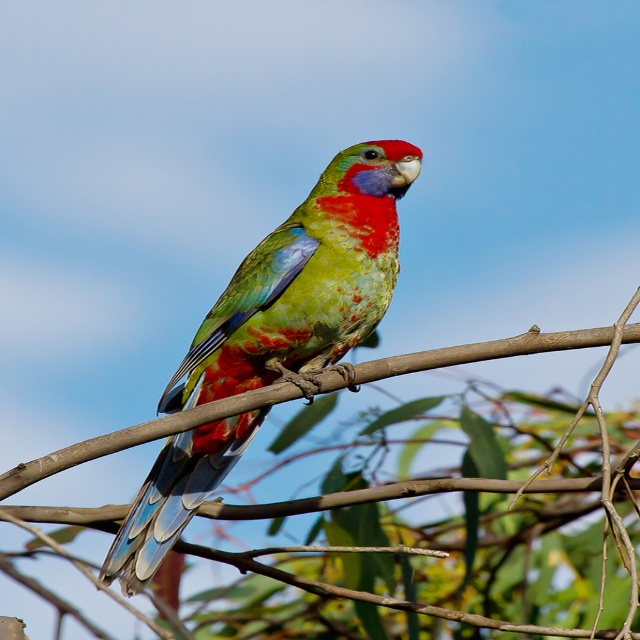Parrot: (94, 139, 426, 599)
